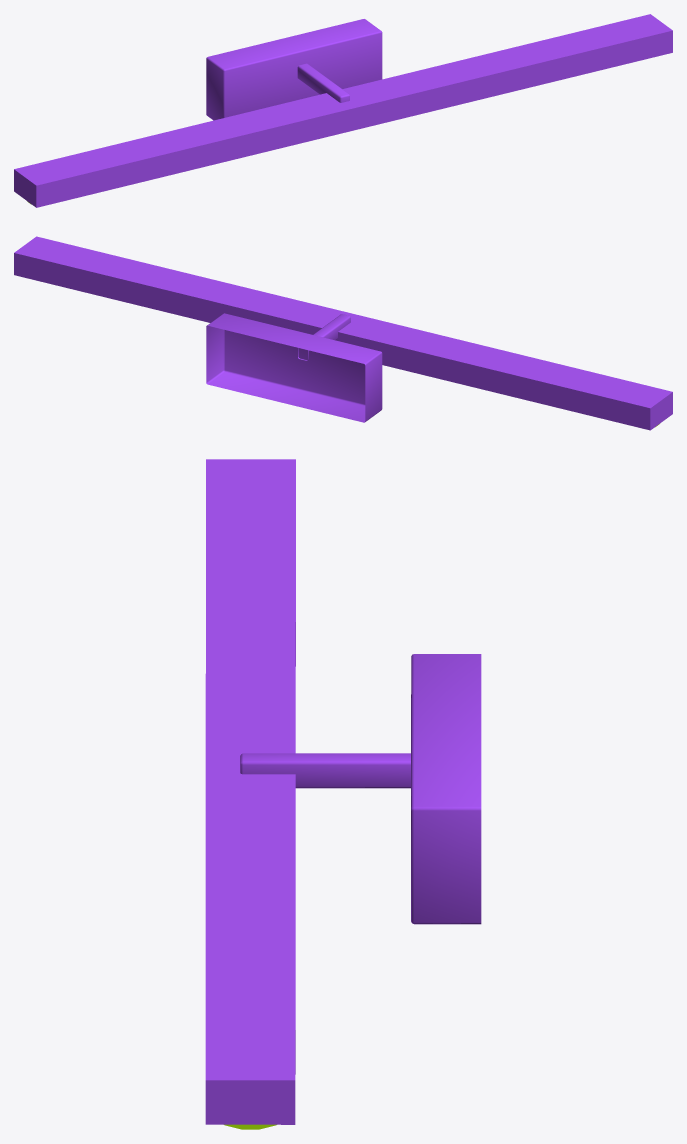
File: LightWall09_3.FBX
3 views of the same model, one above another, from view 1: azimuth 30°, elevation 25°; view 2: azimuth 150°, elevation 25°; view 3: azimuth 270°, elevation 25° (orthographic). The views are drawn at different scales.
Parts seen in each view (by area): view 1: LightWall09_3; view 2: LightWall09_3; view 3: LightWall09_3.
Part boxes in pixels (x1,y1,x2,y2): LightWall09_3: (14, 14, 672, 207); LightWall09_3: (14, 236, 672, 430); LightWall09_3: (205, 459, 481, 1129).
Size of the model in its own units: 60 by 5.3 by 11.27.
